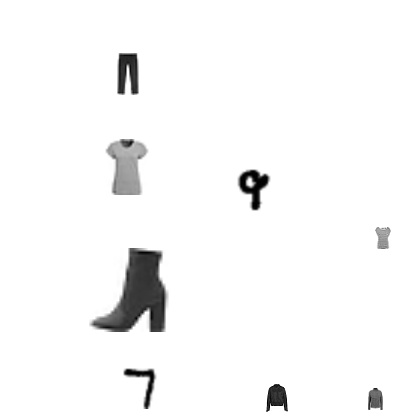7: (114, 353, 170, 409)
9: (224, 158, 280, 214)
Ankle_boot: (87, 248, 171, 332)
Coat: (263, 384, 291, 412), (364, 388, 386, 410)
Shirt: (372, 227, 394, 249)
T-shirt/top: (98, 139, 154, 195)
Trouser: (107, 53, 149, 95)
